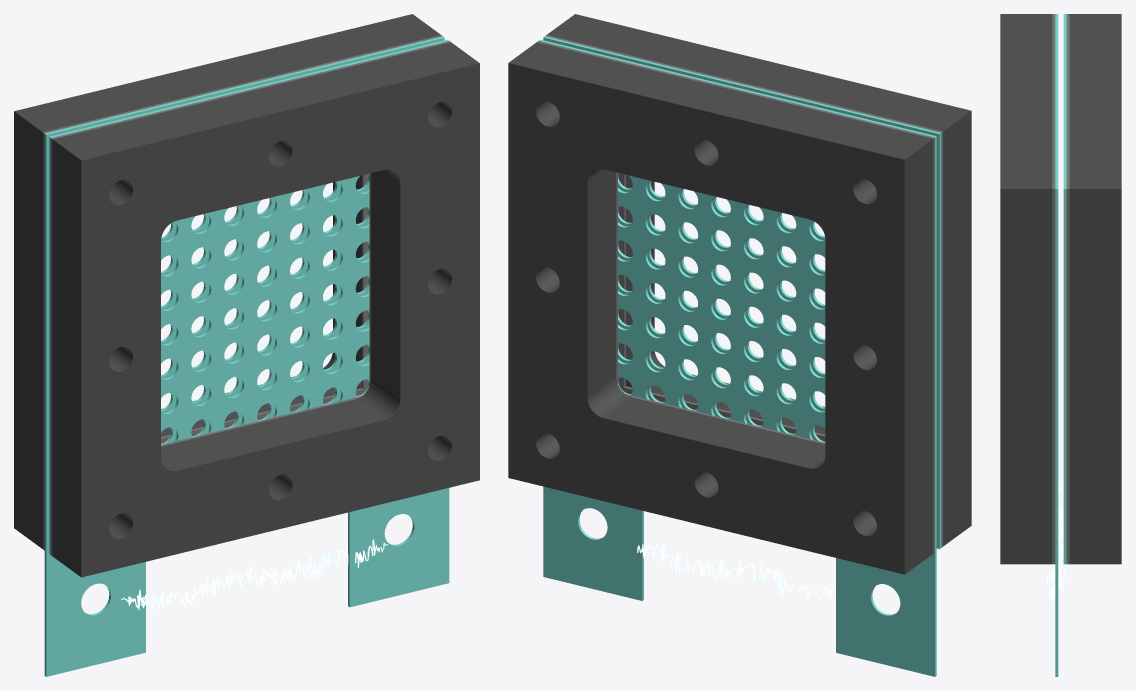
Rendered from application-energy.glb.
3 views of the same model, side by side, from view 1: azimuth 30°, elevation 25°; view 2: azimuth 150°, elevation 25°; view 3: azimuth 270°, elevation 25° (orthographic). The views are drawn at different scales.
Visible parts, largest first — view 1: part_001, part_003, part_009, part_007, part_002, part_008, Cube; view 2: part_009, part_007, part_001, part_003, part_002, part_008, Cube; view 3: part_009, part_001, part_003, part_007, part_008, part_002, Cube.
Part boxes in pixels (bbox=[...]): part_001: bbox=[52, 42, 479, 577]; part_003: bbox=[49, 39, 449, 607]; part_009: bbox=[14, 14, 440, 548]; part_007: bbox=[44, 36, 444, 676]; part_002: bbox=[51, 41, 450, 556]; part_008: bbox=[43, 35, 442, 550]; Cube: bbox=[121, 539, 388, 613]; part_009: bbox=[508, 42, 933, 574]; part_007: bbox=[539, 39, 936, 676]; part_001: bbox=[547, 14, 971, 546]; part_003: bbox=[543, 36, 941, 600]; part_002: bbox=[545, 35, 942, 547]; part_008: bbox=[537, 41, 934, 553]; Cube: bbox=[637, 544, 835, 600]; part_009: bbox=[1069, 14, 1121, 564]; part_001: bbox=[1000, 14, 1052, 564]; part_003: bbox=[1055, 14, 1058, 676]; part_007: bbox=[1063, 14, 1066, 564]; part_008: bbox=[1066, 14, 1069, 564]; part_002: bbox=[1052, 14, 1055, 564]; Cube: bbox=[1047, 481, 1066, 601].
Bounding box in the file's own units: 75.89 × 98.66 × 22.2.
